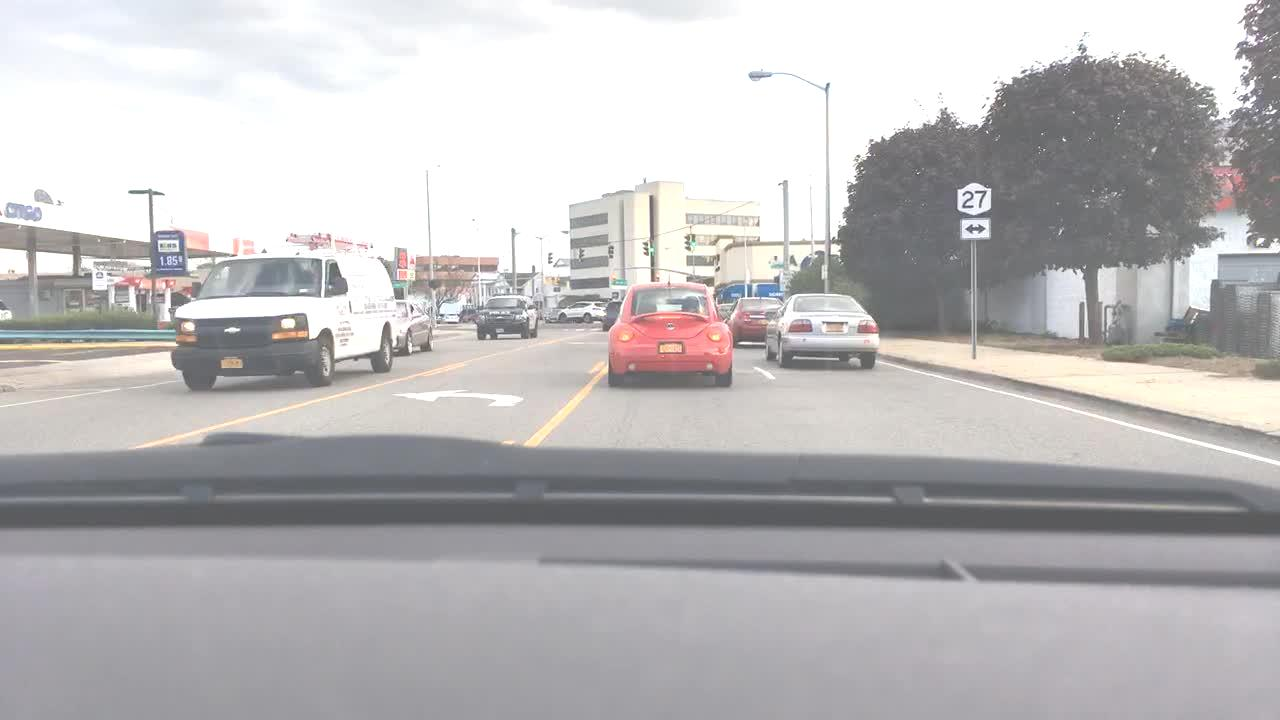chevrolet: (219, 324, 242, 339)
